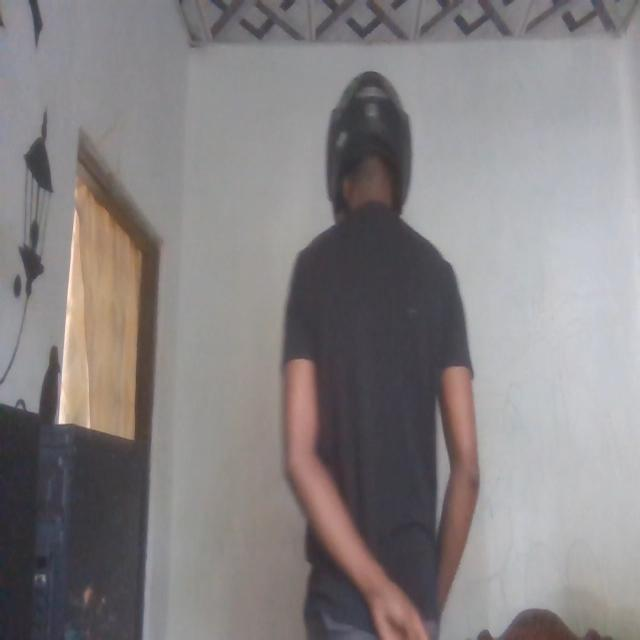Jacket_Wearer: (312, 60, 408, 232)
Person: (282, 68, 480, 640)
